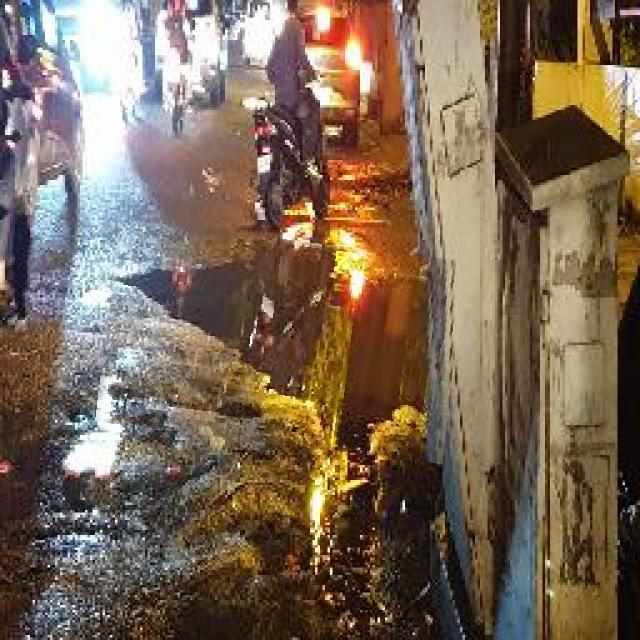puddle: (101, 231, 463, 455)
